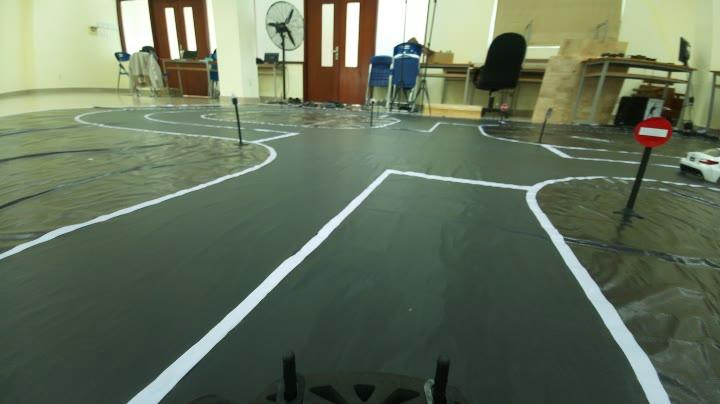no_entry: (632, 105, 668, 151)
